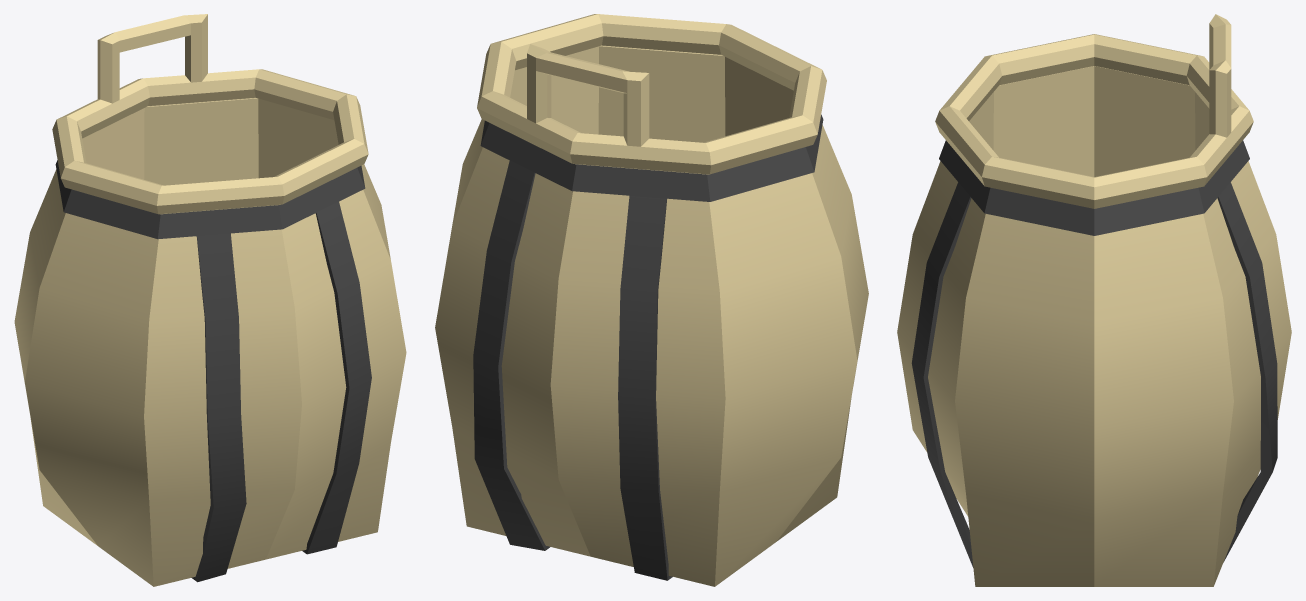
File: basket.gltf
The picture shows the model from 3 angles, left to right: view 1: azimuth 30°, elevation 25°; view 2: azimuth 150°, elevation 25°; view 3: azimuth 270°, elevation 25°; orthographic projection. The views are drawn at different scales.
Visible parts, largest first — view 1: basket; view 2: basket; view 3: basket.
Part boxes in pixels (x1,y1,x2,y2): basket: (14, 14, 406, 586); basket: (435, 14, 868, 586); basket: (897, 14, 1291, 586).
Bounding box in the file's own units: 1.24 × 1.46 × 1.06.
